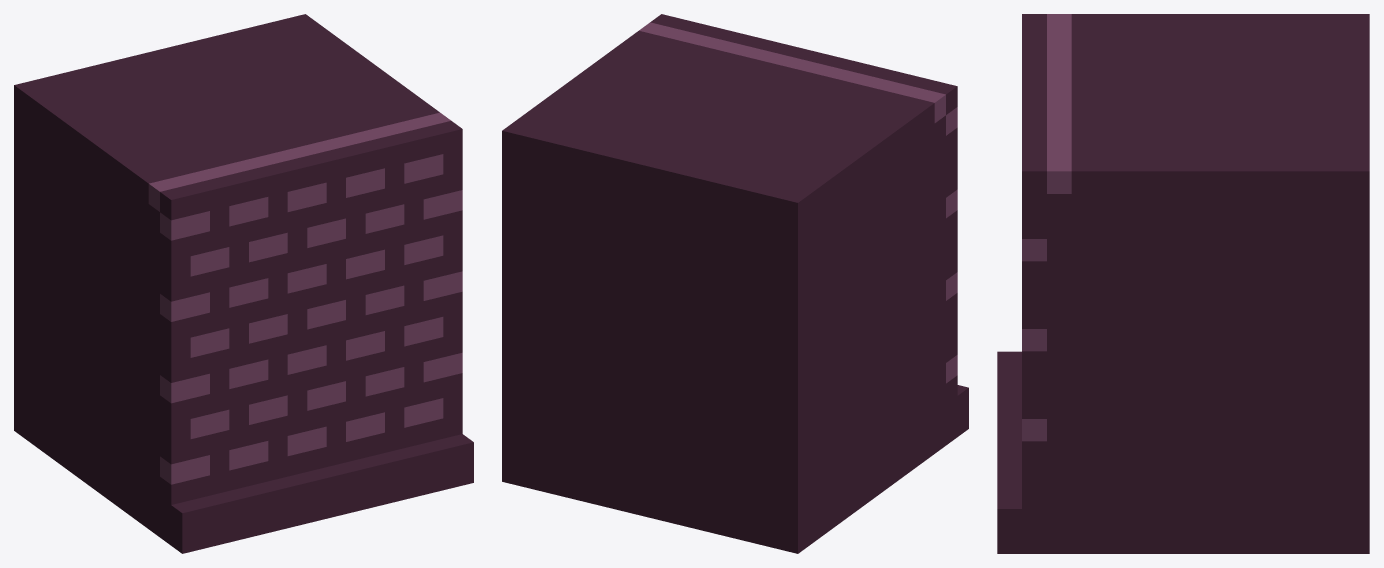
File: dungeon_c_a_outer_wall_segment_a_flipped.obj
3 renders of one model, left to right at view 1: azimuth 30°, elevation 25°; view 2: azimuth 150°, elevation 25°; view 3: azimuth 270°, elevation 25°, orthographic. The views are drawn at different scales.
Bounding box in the file's own units: 1.5 × 1.7 × 1.5.
Materials: 1 (1 with a texture image).
